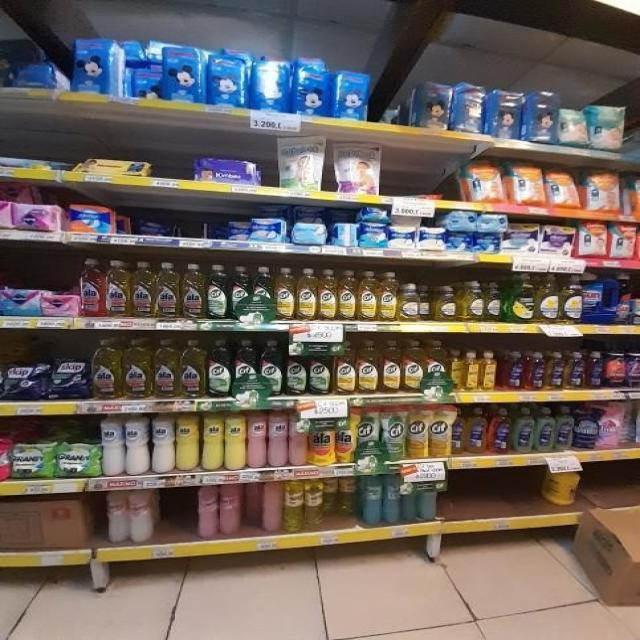ala_conc_amarillo: (122, 337, 151, 400), (92, 337, 120, 401), (180, 338, 206, 399), (153, 338, 178, 399), (155, 261, 180, 319), (106, 259, 130, 318), (181, 263, 205, 319), (131, 260, 154, 318)
ala_conc_rojo: (79, 258, 104, 317)
ala_crem_amarillo: (176, 412, 200, 472), (224, 410, 246, 471), (202, 411, 223, 472)
ala_crem_blanco: (124, 413, 150, 475), (151, 412, 175, 474), (101, 413, 124, 477)
ala_crem_rosado: (247, 410, 267, 470), (268, 410, 288, 468), (289, 411, 309, 467)
ala_sachet_amarillo: (310, 411, 334, 466), (335, 408, 355, 465)
cif_conc_bot_amarilla: (424, 339, 448, 393), (356, 339, 379, 395), (333, 340, 356, 395), (402, 339, 423, 393), (380, 339, 400, 394), (275, 266, 295, 321), (296, 267, 316, 321), (358, 270, 378, 322), (378, 271, 398, 322), (318, 268, 337, 321), (338, 270, 356, 321)
cif_conc_botella_verde: (208, 339, 232, 398), (259, 339, 283, 398), (234, 339, 258, 398), (206, 264, 229, 320), (252, 265, 274, 322), (285, 340, 307, 396), (309, 340, 331, 396), (230, 265, 251, 321)
cif_conc_sachet_amarillo: (429, 405, 452, 458), (407, 405, 428, 460)
cif_conc_sachet_verde: (356, 407, 381, 466), (383, 406, 405, 462)
heroe: (360, 475, 382, 528), (284, 479, 304, 535), (304, 478, 324, 532)
magistral_con_amarillo: (537, 273, 559, 324), (560, 274, 582, 324), (459, 281, 484, 322), (434, 284, 458, 322), (398, 283, 419, 322), (484, 281, 503, 322), (419, 284, 432, 322)
zorro: (465, 407, 488, 456), (489, 407, 511, 455), (513, 408, 534, 454), (534, 407, 554, 453), (501, 351, 523, 391), (524, 351, 544, 391), (566, 350, 586, 390), (546, 351, 564, 391)
